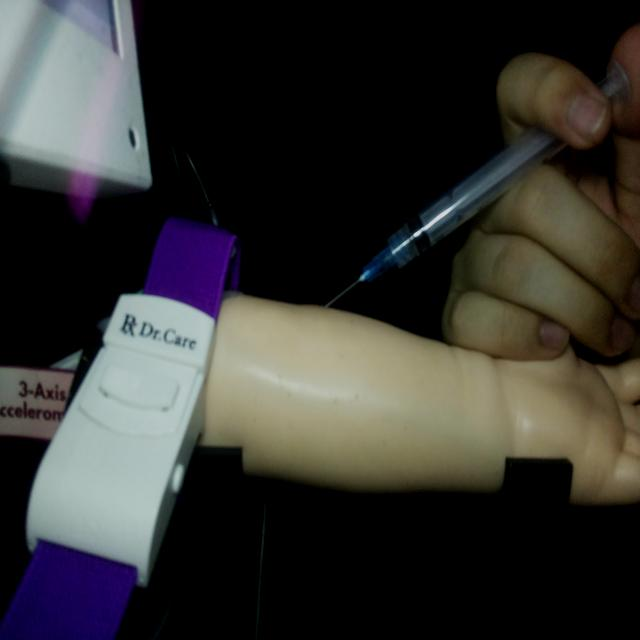29 degrees: (320, 57, 632, 312)
